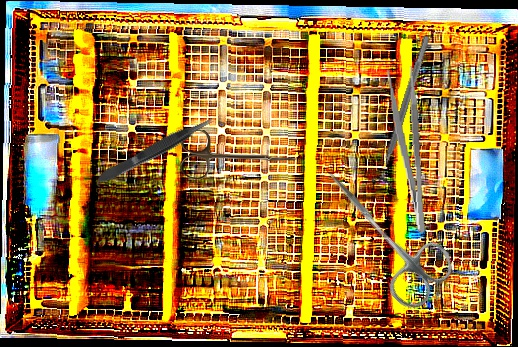Dressing Forceps: (385, 66, 430, 235)
Fixation Ring: (368, 32, 440, 191)
Iris Scissors: (301, 150, 463, 316), (180, 129, 298, 182)
Tissue Forceps: (94, 113, 217, 186)
